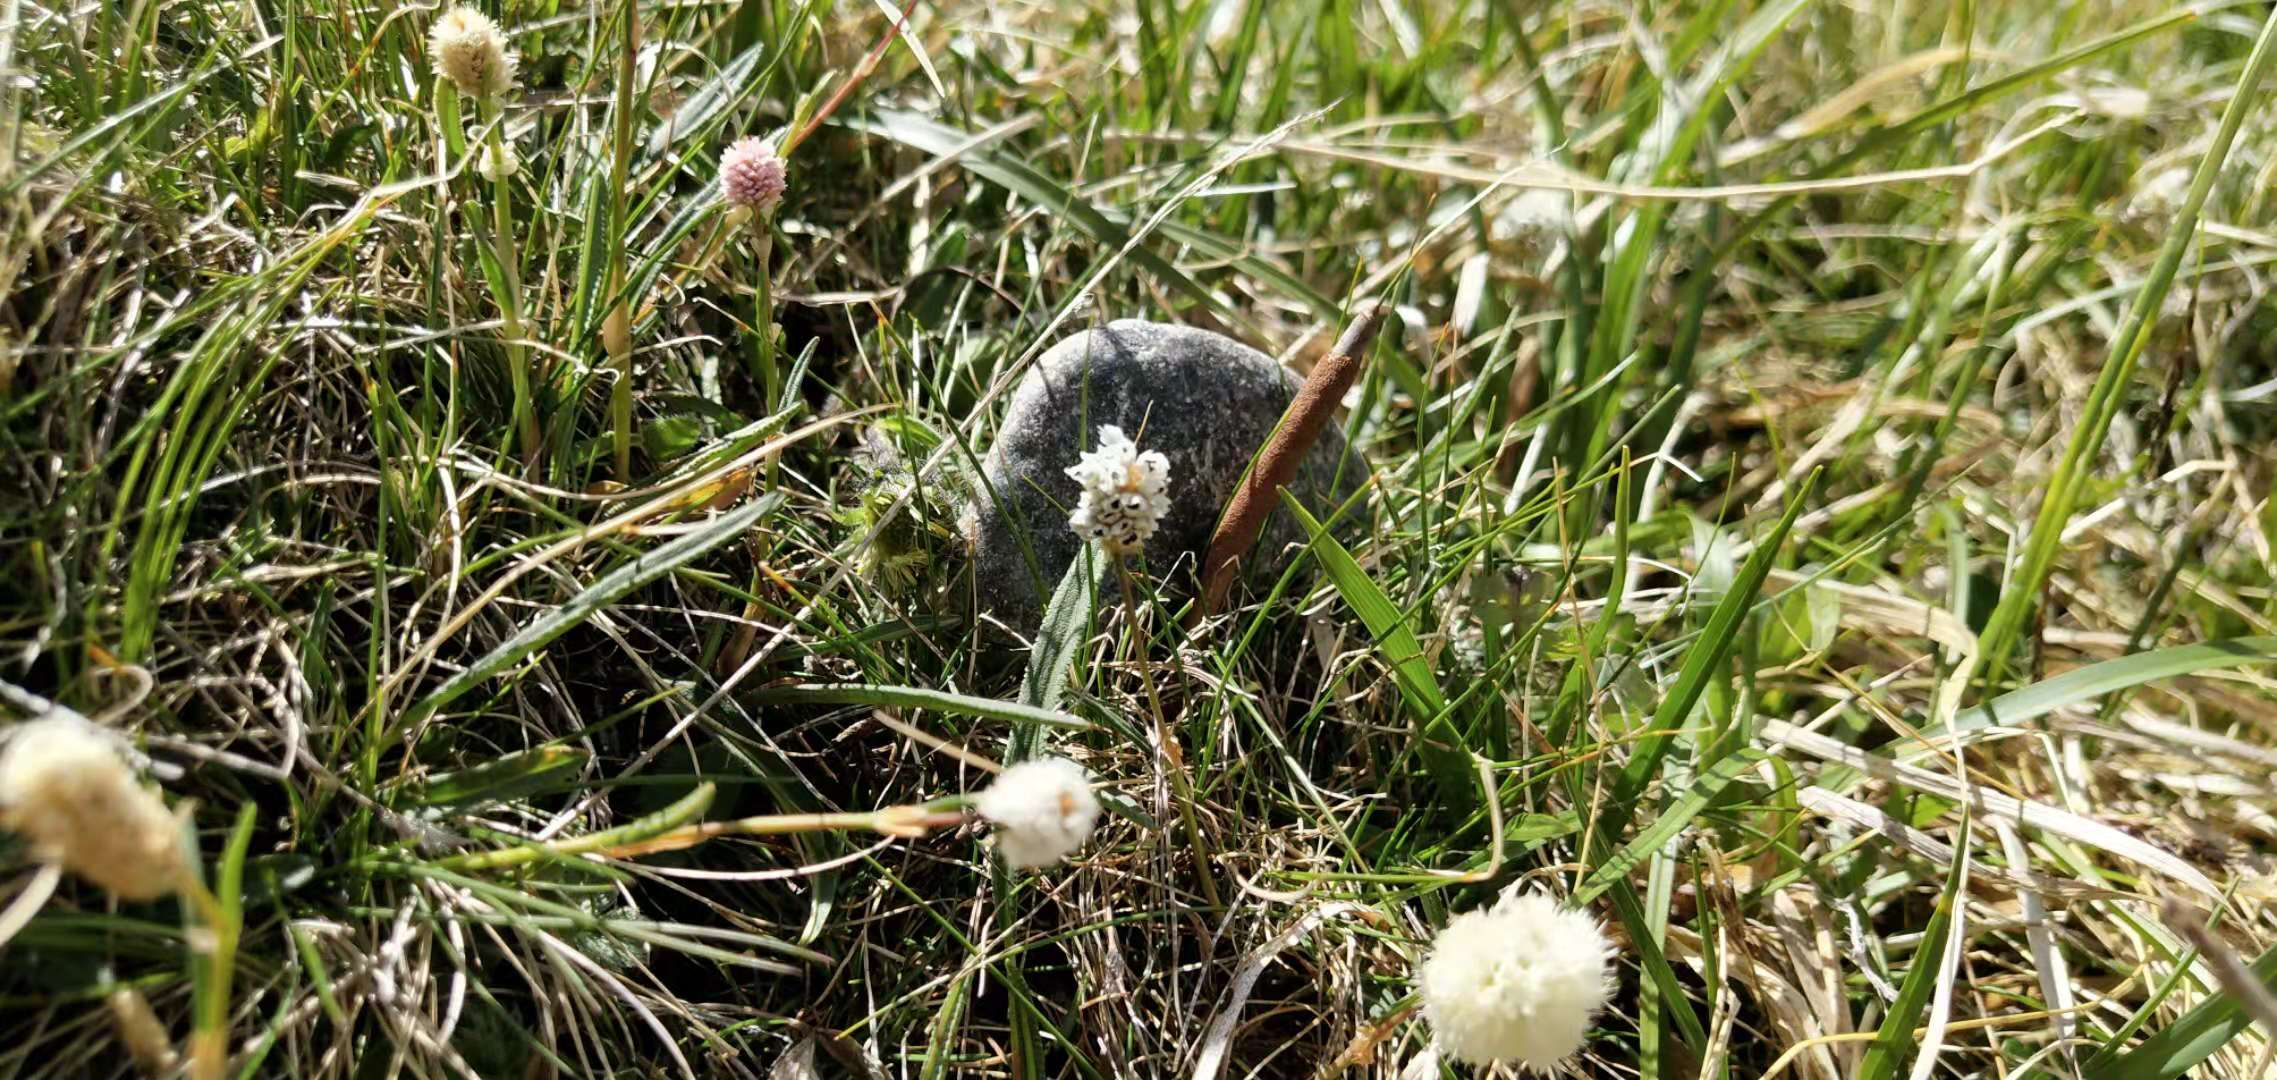w: (1192, 306, 1381, 639)
